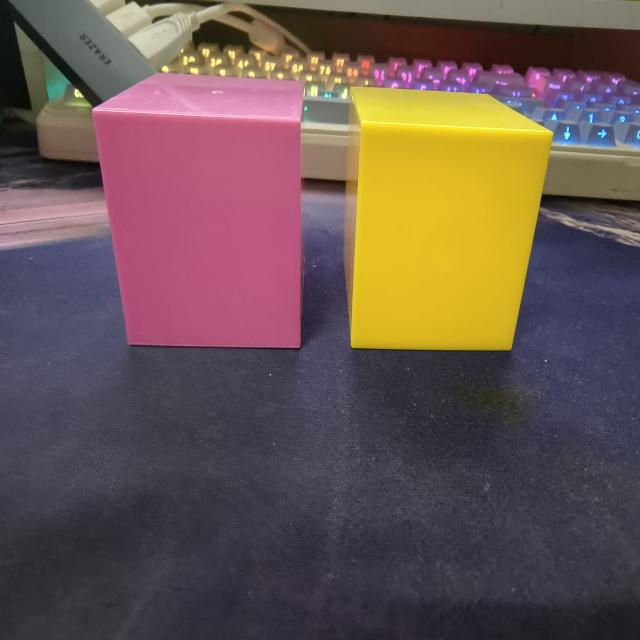pink: (91, 75, 305, 352)
yellow: (345, 86, 553, 354)
